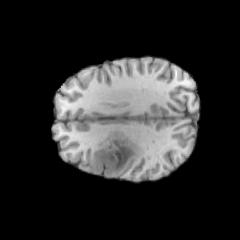glioma: (91, 132, 143, 178)
